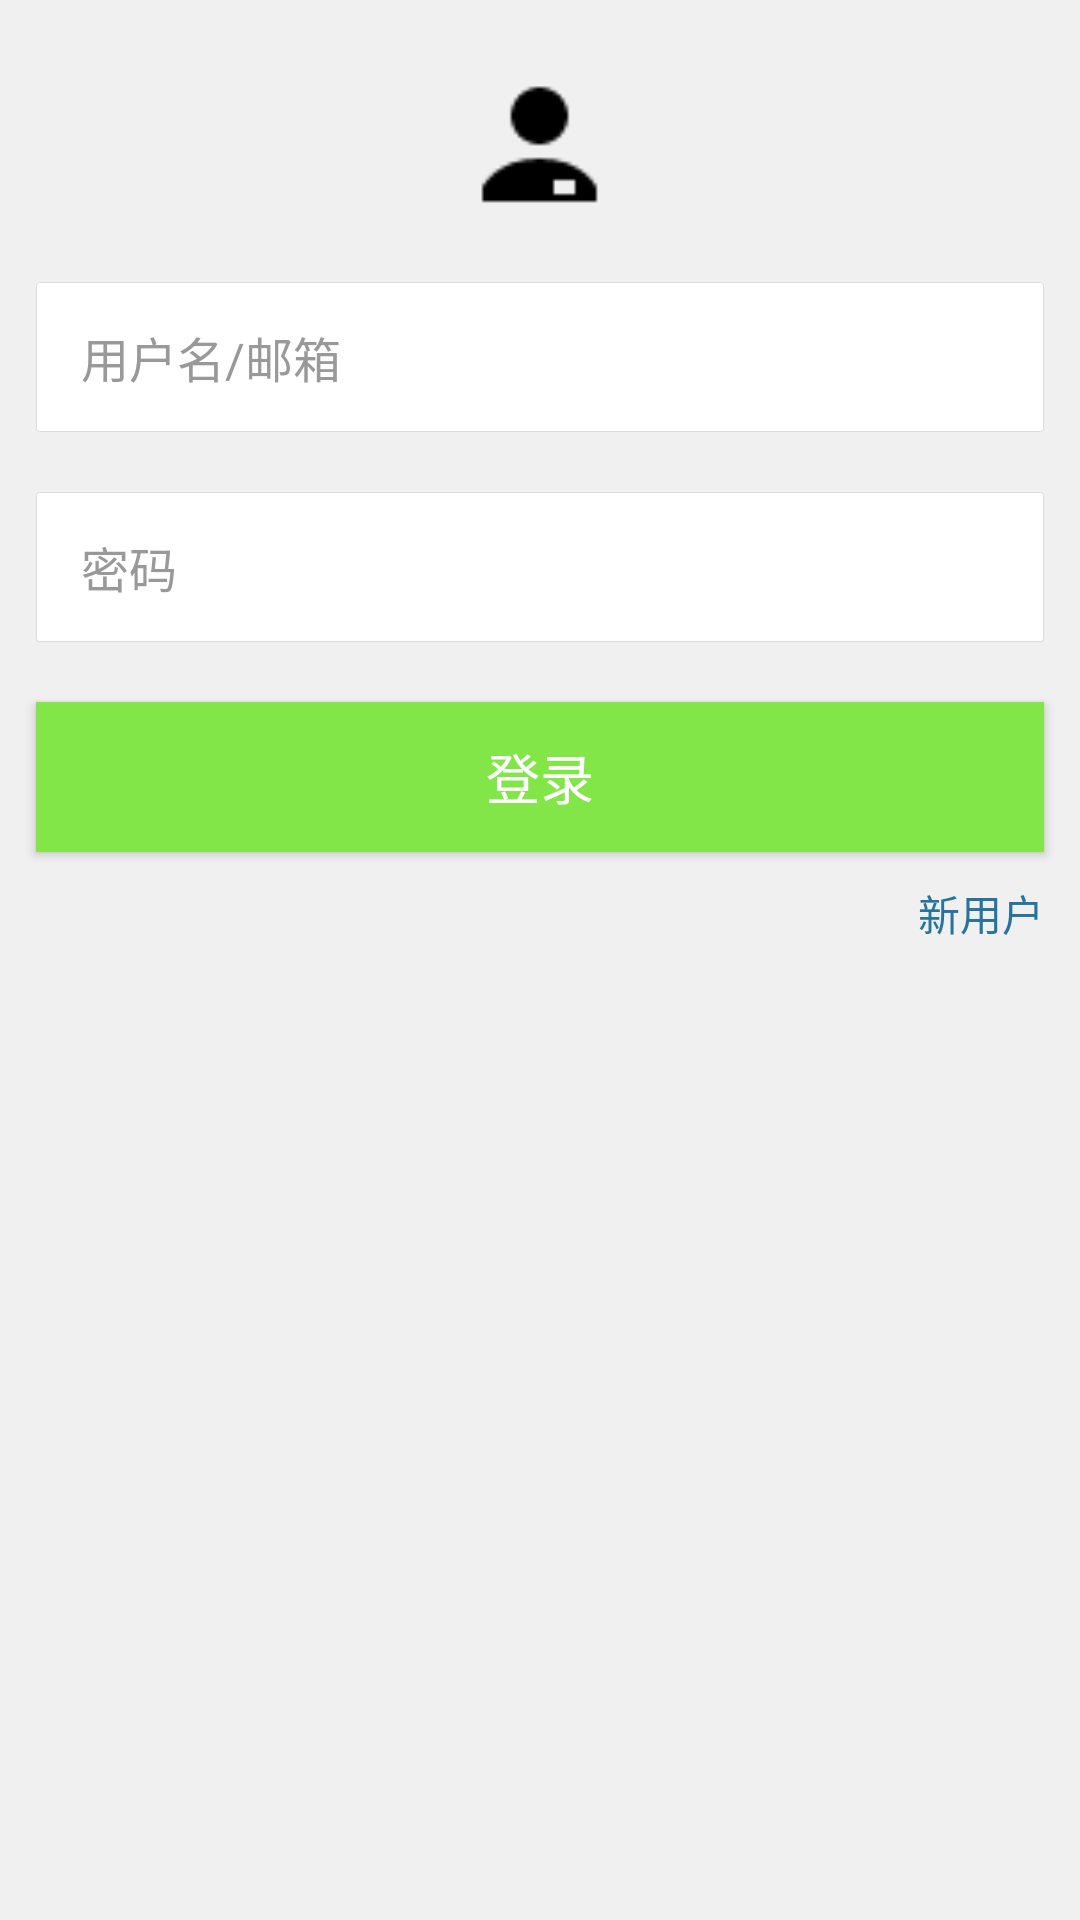

Icon click points for this 1080w x 1920h phone screenshot, format (x,y):
user: (539,144)
